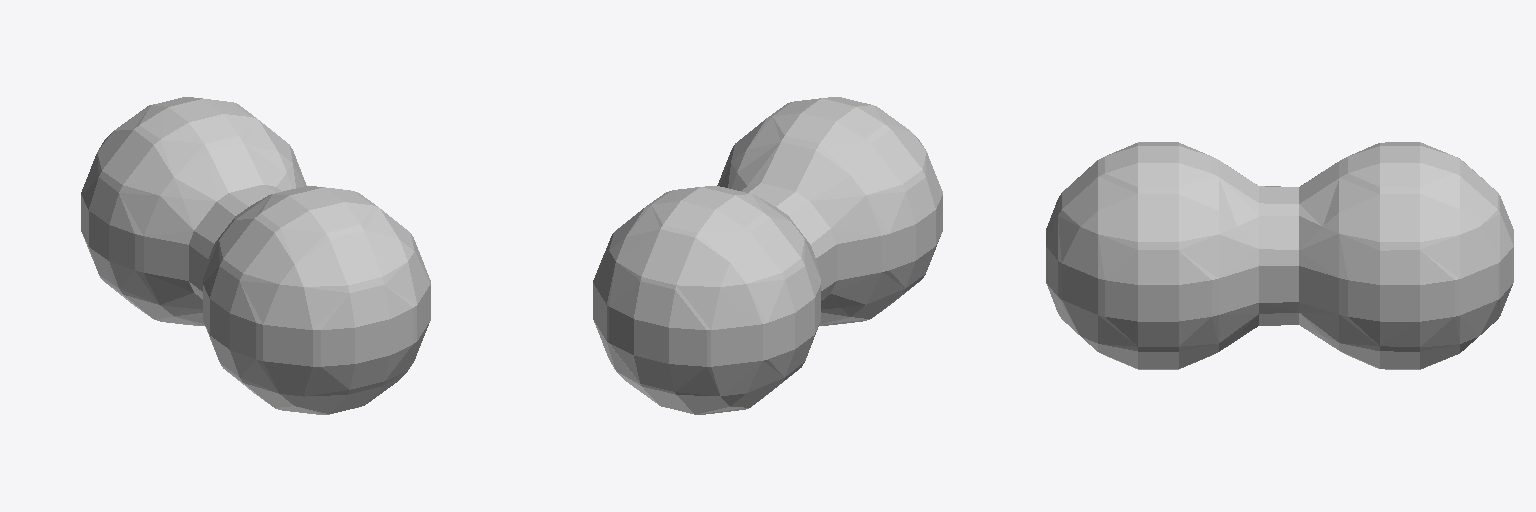
The model's file is planeta_gemeos.obj.
3 renders of one model, left to right at view 1: azimuth 30°, elevation 25°; view 2: azimuth 150°, elevation 25°; view 3: azimuth 270°, elevation 25°, orthographic.
Parts seen in each view (by area): view 1: Mball; view 2: Mball; view 3: Mball.
Boxes of the visible parts, x1=… form: Mball: x1=81, y1=97, x2=430, y2=414; Mball: x1=593, y1=97, x2=942, y2=414; Mball: x1=1046, y1=142, x2=1513, y2=369.
Bounding box in the file's own units: 7.84 × 7.84 × 16.29.